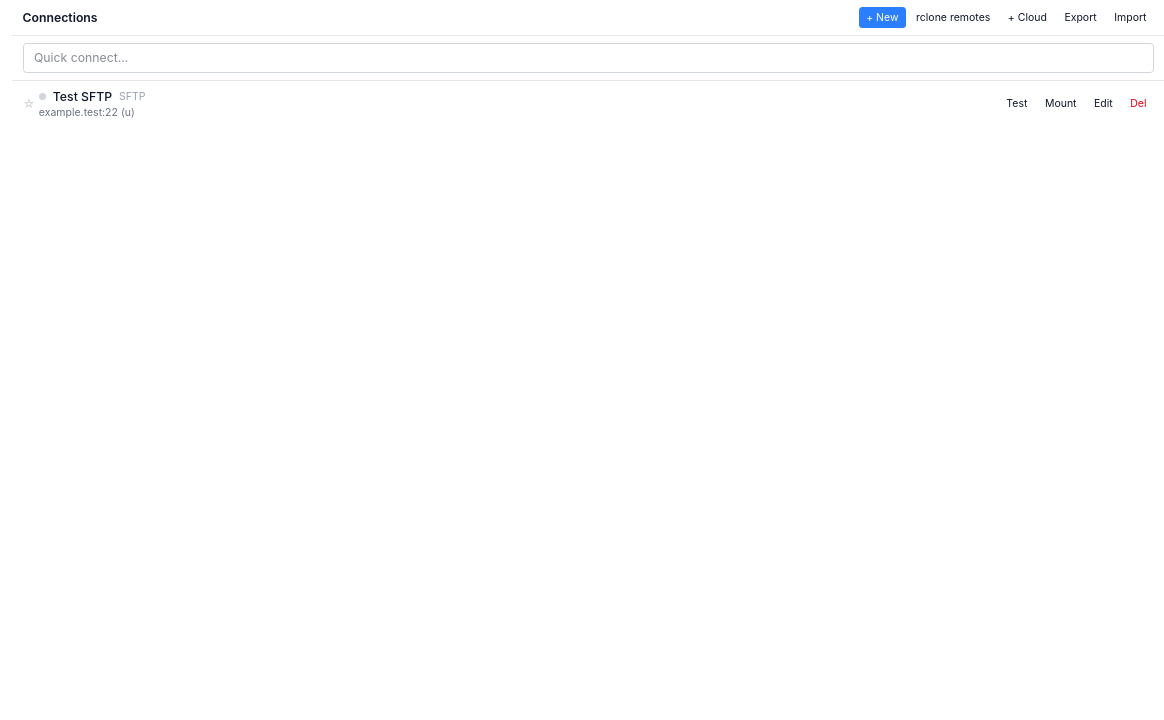
Test: ConnectionPanel remote browser › uploads picked files into the current remote directory
What coordinates should you click on to do the following:
click the text "Test SFTP"
I would click on:
 (82, 97)
Its box is [53,88,112,106].
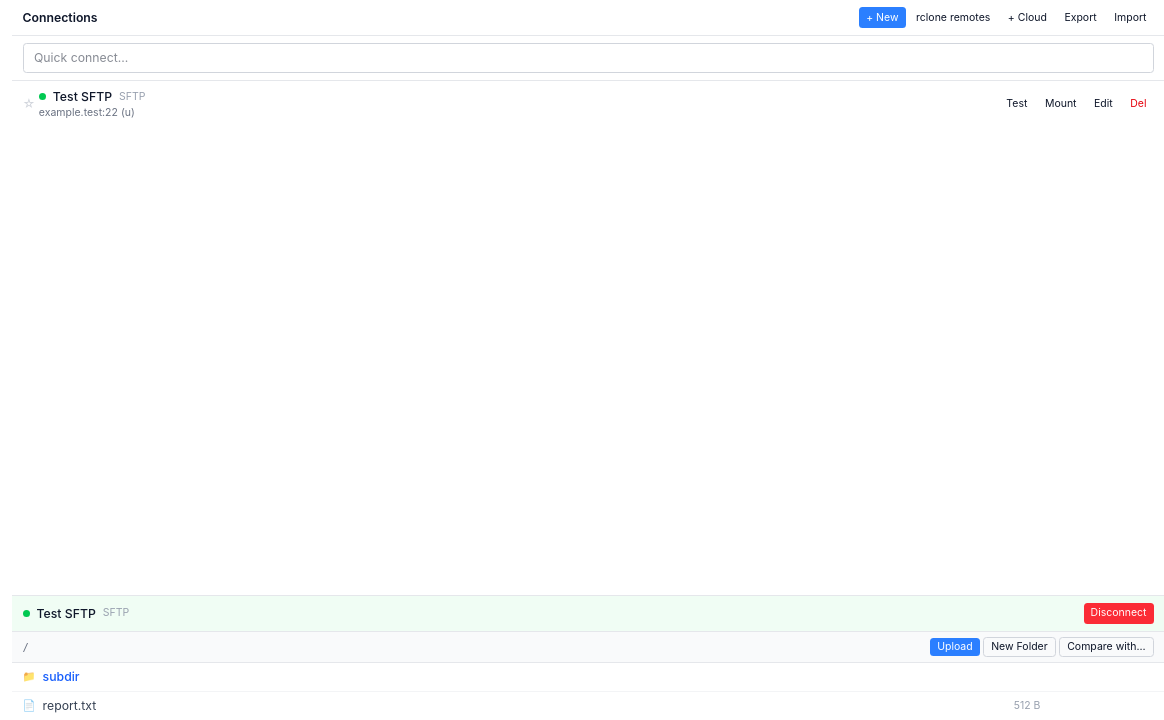
Expected: the text "report.txt" is shown, [43,697,96,715]
What coordinates should you click on to do the following:
click the button with test id "remote-upload"
I would click on:
 (955, 647)
Its box is [930,638,980,656].
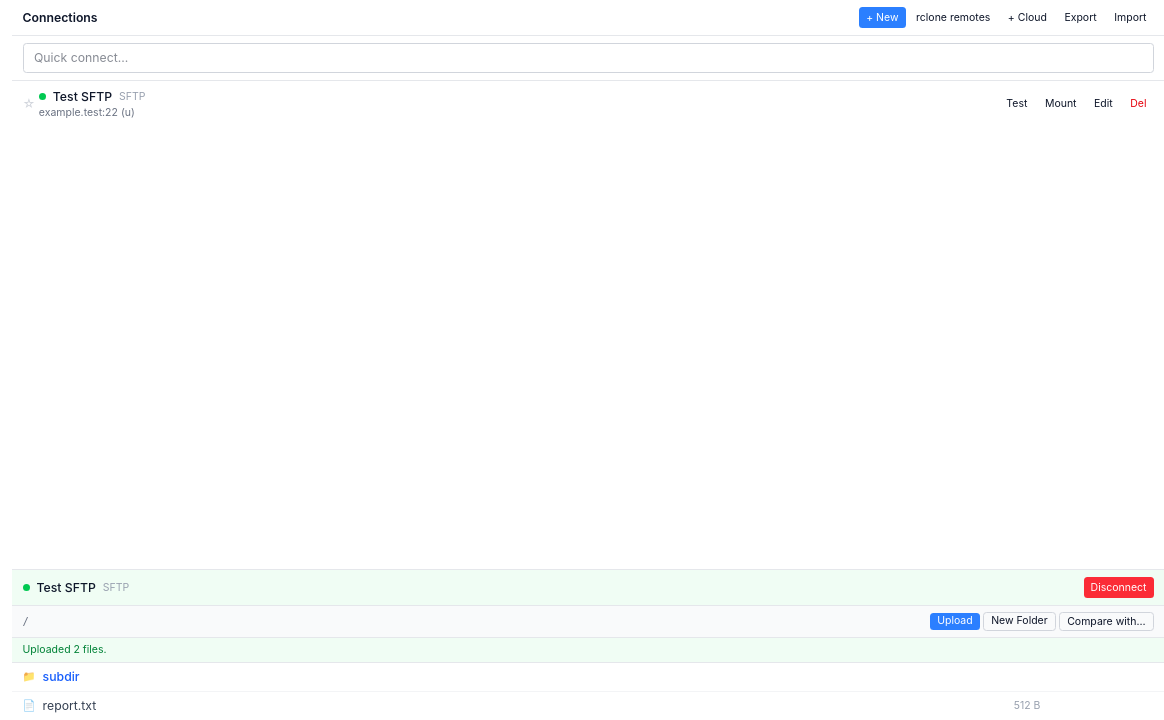
Expected: the text "Uploaded 2 files." is shown, [12,638,1163,663]
